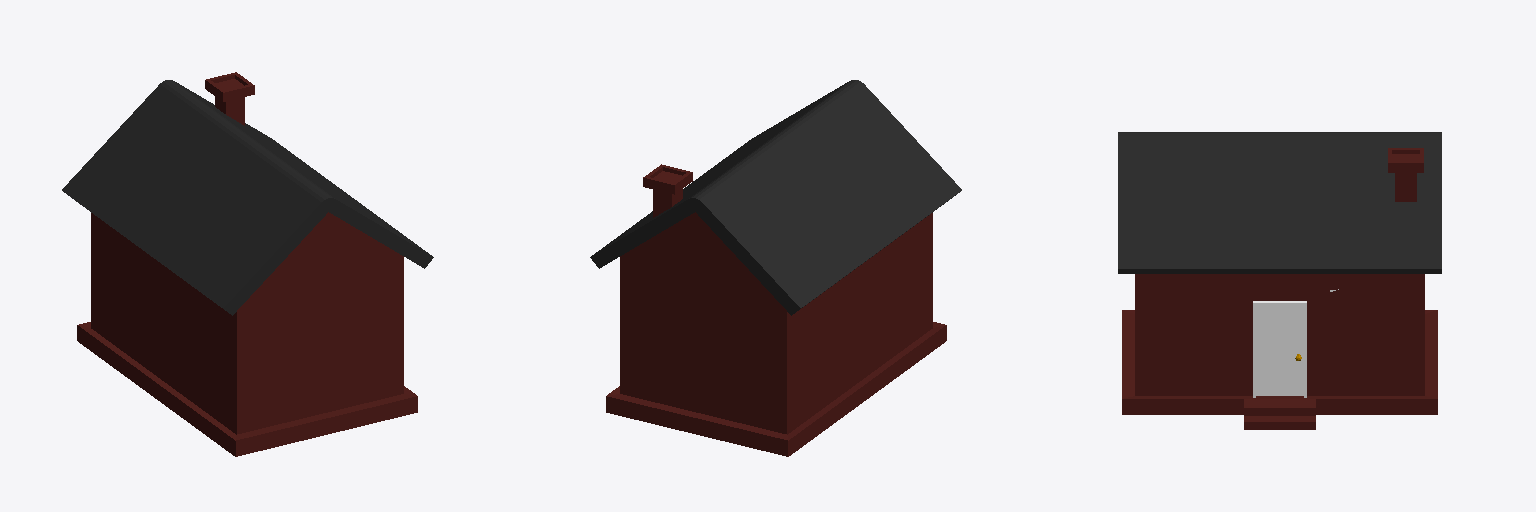
File: house.obj
The picture shows the model from 3 angles: view 1: azimuth 30°, elevation 25°; view 2: azimuth 150°, elevation 25°; view 3: azimuth 270°, elevation 25°; orthographic projection.
Parts seen in each view (by area): view 1: Cube, roof, Chimney; view 2: Cube, roof, Chimney; view 3: roof, Cube, Door, Chimney.
Part boxes in pixels (x1,y1,x2,y2): Cube: (77, 212, 417, 456); roof: (62, 80, 433, 315); Chimney: (205, 72, 254, 125); Cube: (606, 212, 946, 456); roof: (590, 80, 961, 315); Chimney: (643, 164, 692, 217); roof: (1118, 132, 1441, 273); Cube: (1122, 274, 1437, 429); Door: (1253, 301, 1306, 397); Chimney: (1388, 148, 1423, 201).
Bounding box in the file's own units: 5.43 × 5.42 × 6.69.